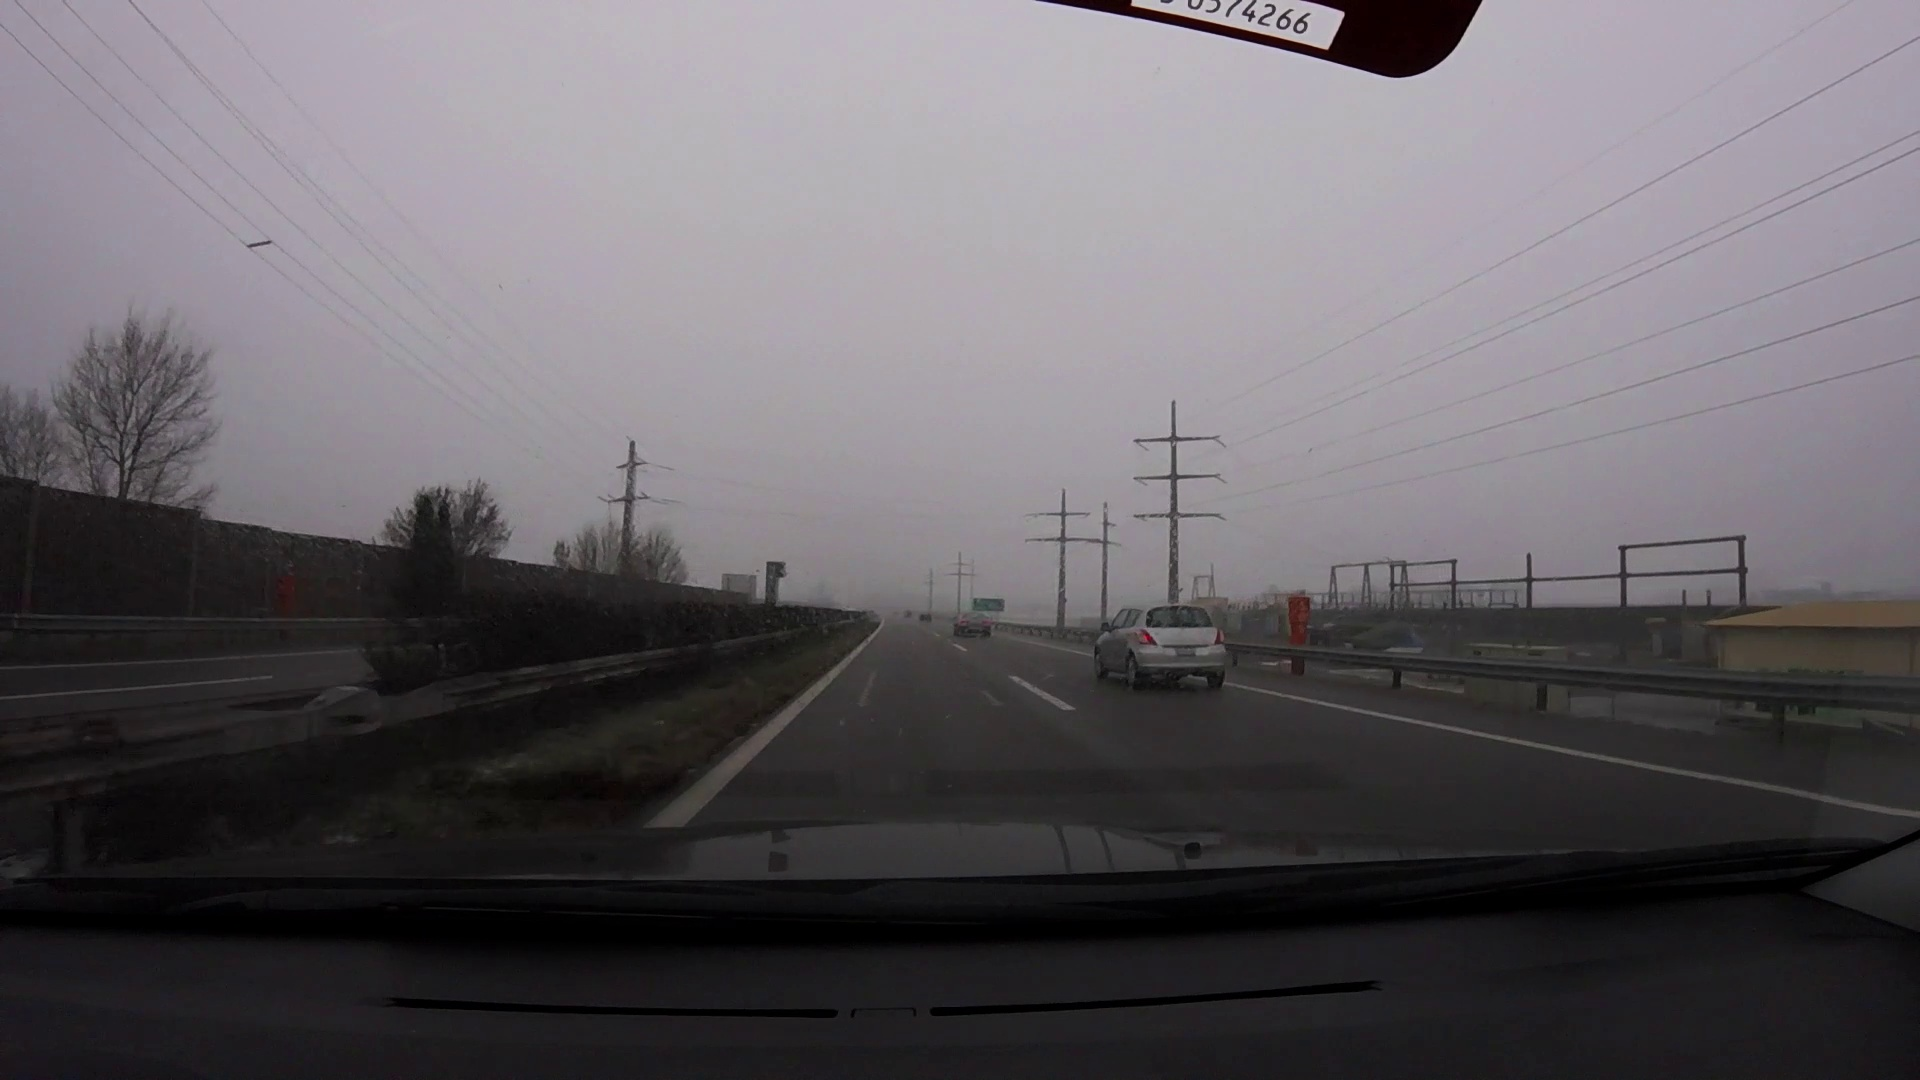radar: (764, 560, 791, 607)
